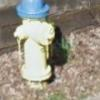a fire hydrant: (14, 20, 55, 81)
